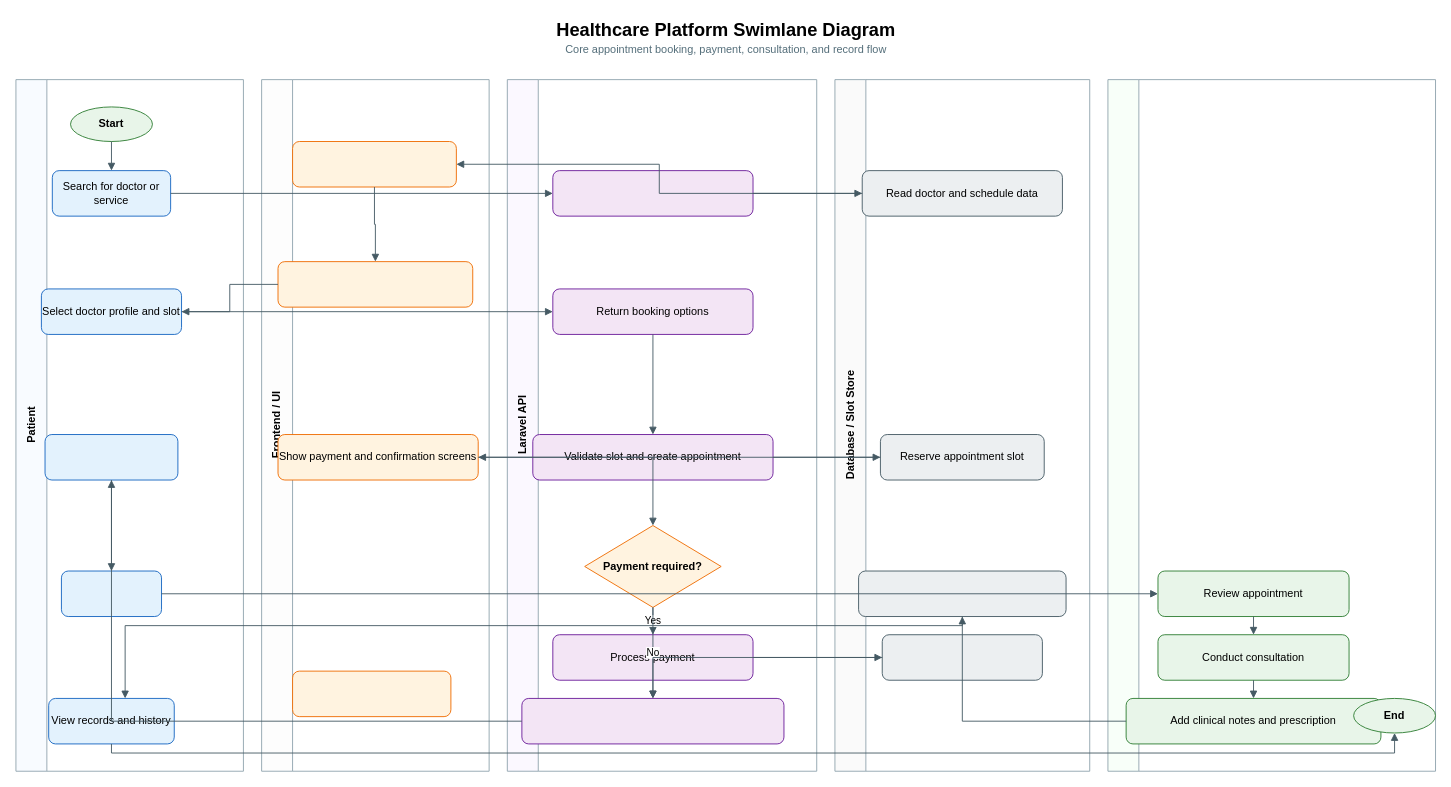
Some shapes in this 1451 by 787 pixel diagram are drawn without their labels. Each missing label, with the box of its shape:
Attend consultation: (61, 570, 162, 617)
Confirm booking and payment: (44, 434, 178, 480)
Display search results: (292, 141, 456, 187)
Doctor: (1107, 79, 1436, 771)
Persist notes and prescriptions: (858, 570, 1066, 617)
Search active doctors: (552, 170, 753, 216)
Send confirmation and update history: (521, 698, 784, 744)
Show appointment dashboard: (292, 670, 451, 717)
Show booking options and availability: (277, 261, 473, 307)
Store payment transaction: (881, 634, 1042, 680)
